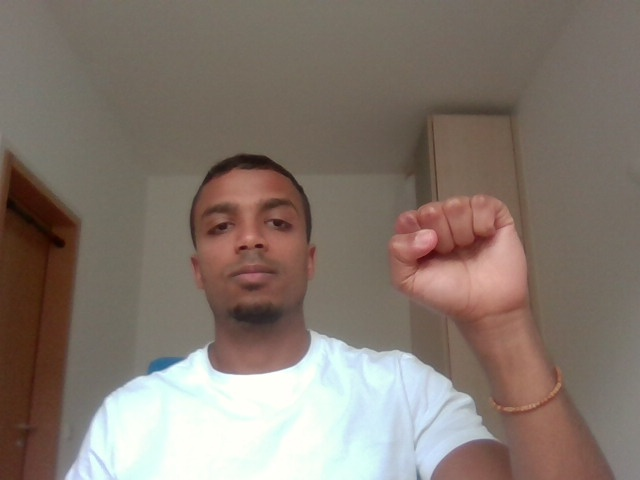neutral: (382, 180, 547, 334)
